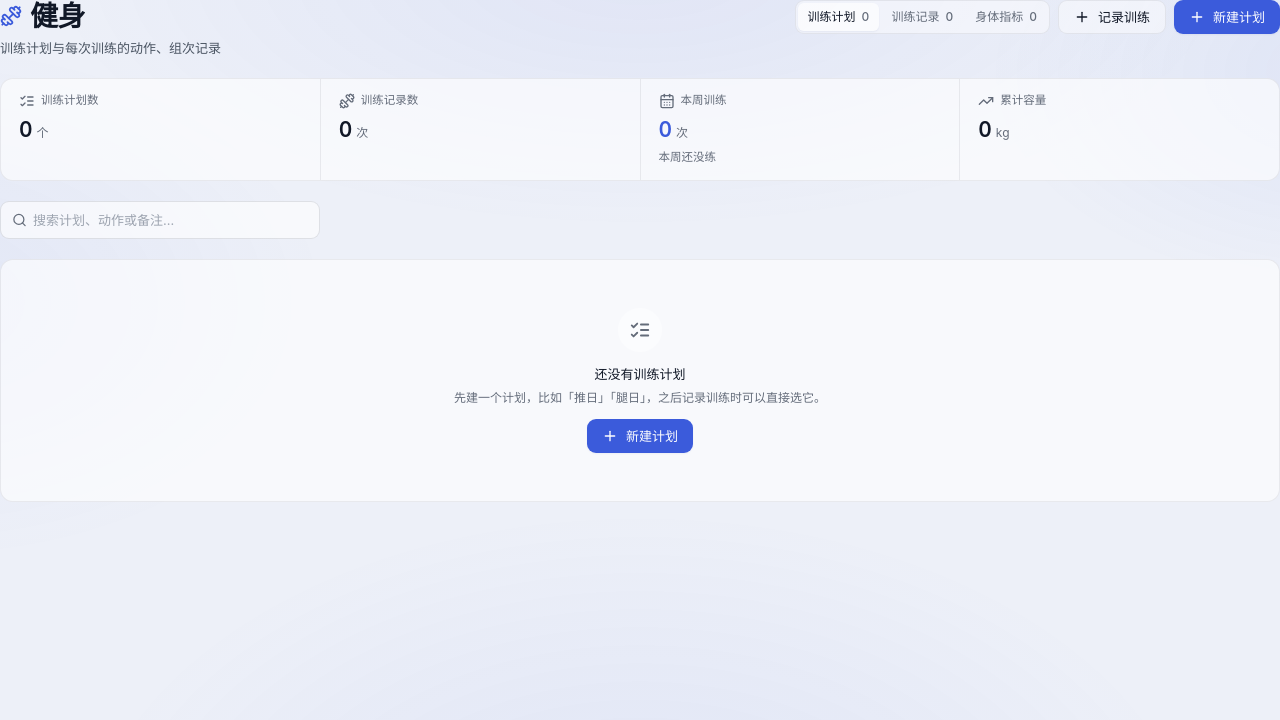
Test case: FitnessPage › 计划视图空态引导新建第一个计划
Expected: the text "还没有训练计划" is shown, [594,366,686,382]
Click the button "新建计划" in the row of "健身" at point(1227, 17), box [1174,0,1279,34]
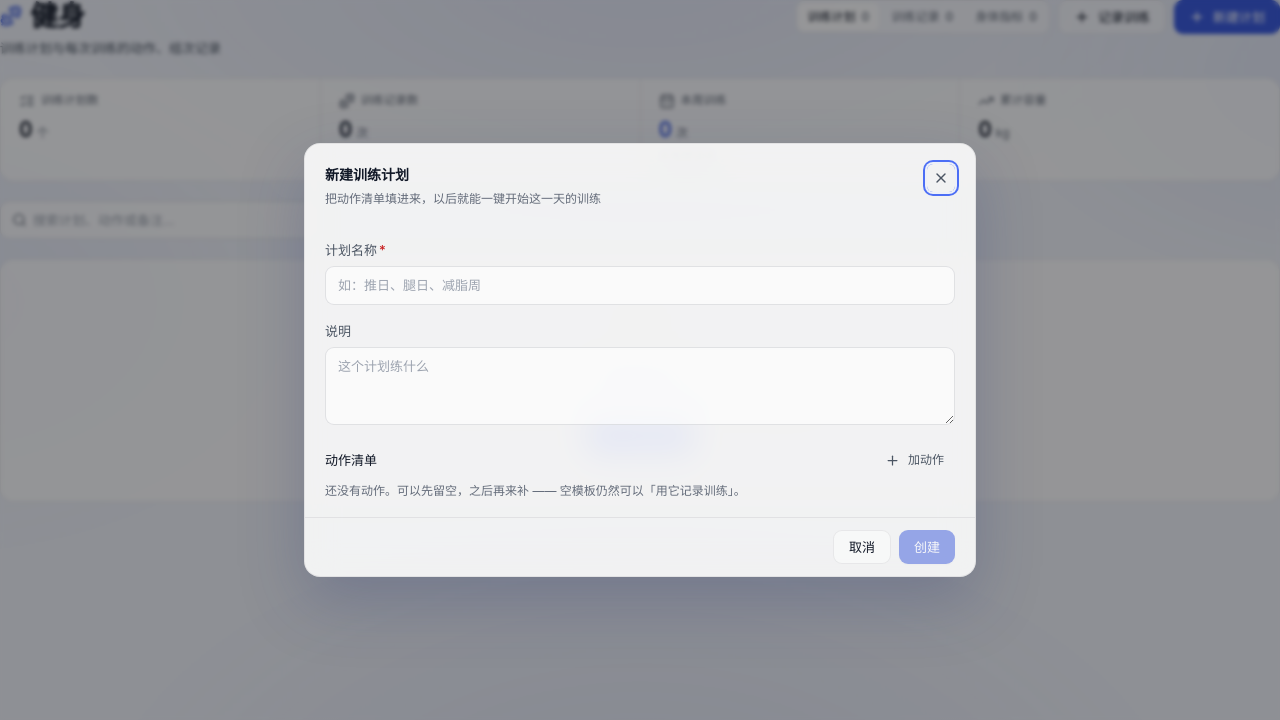
Expected: the button "创建" is disabled, [899,530,955,564]
Type "推日" into the field labelled "计划名称*" at point(640, 286), box [325,266,955,305]
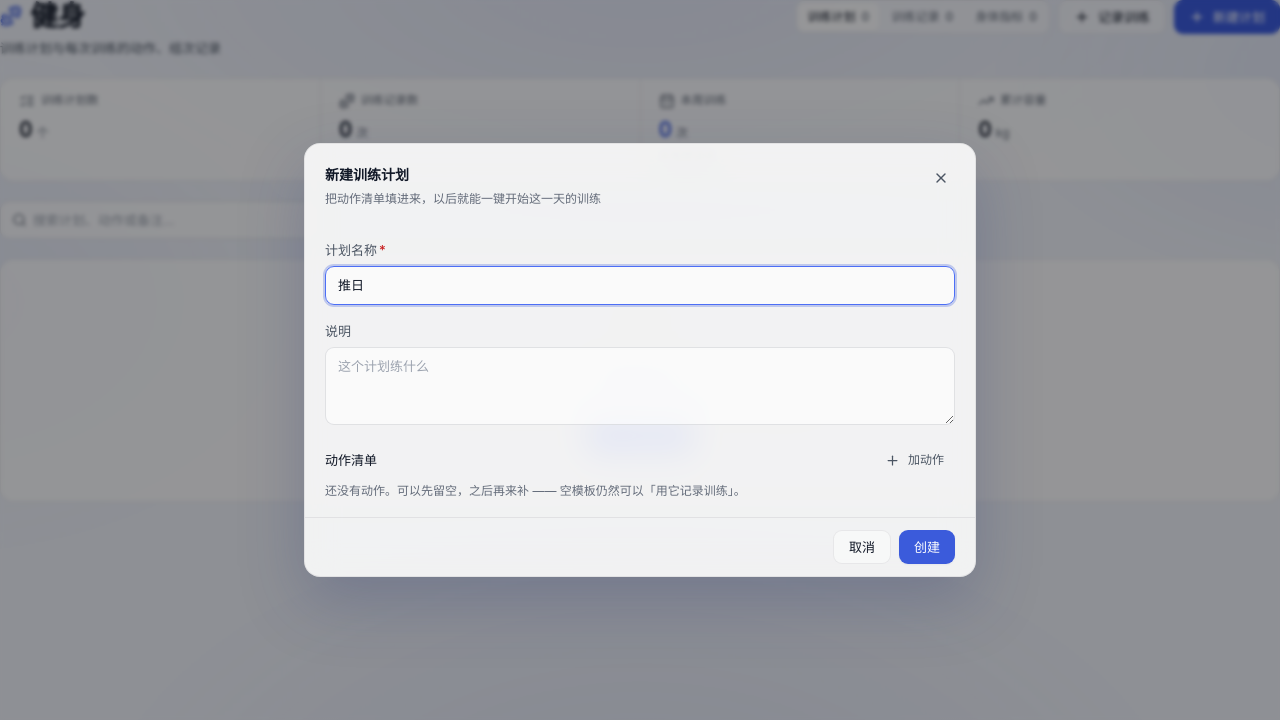
Type "胸肩三头" into the text box labelled "说明" at point(640, 386), box [325,347,955,425]
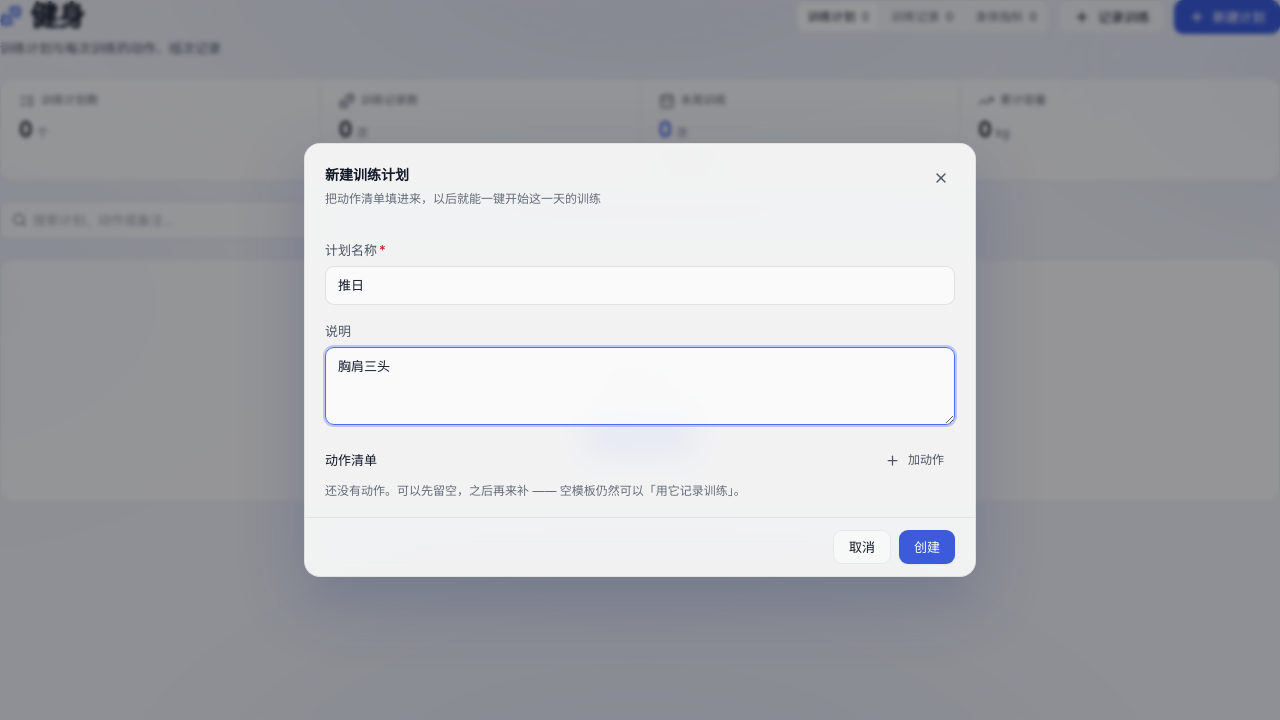
Click the button "创建" at point(927, 547), box [899,530,955,564]
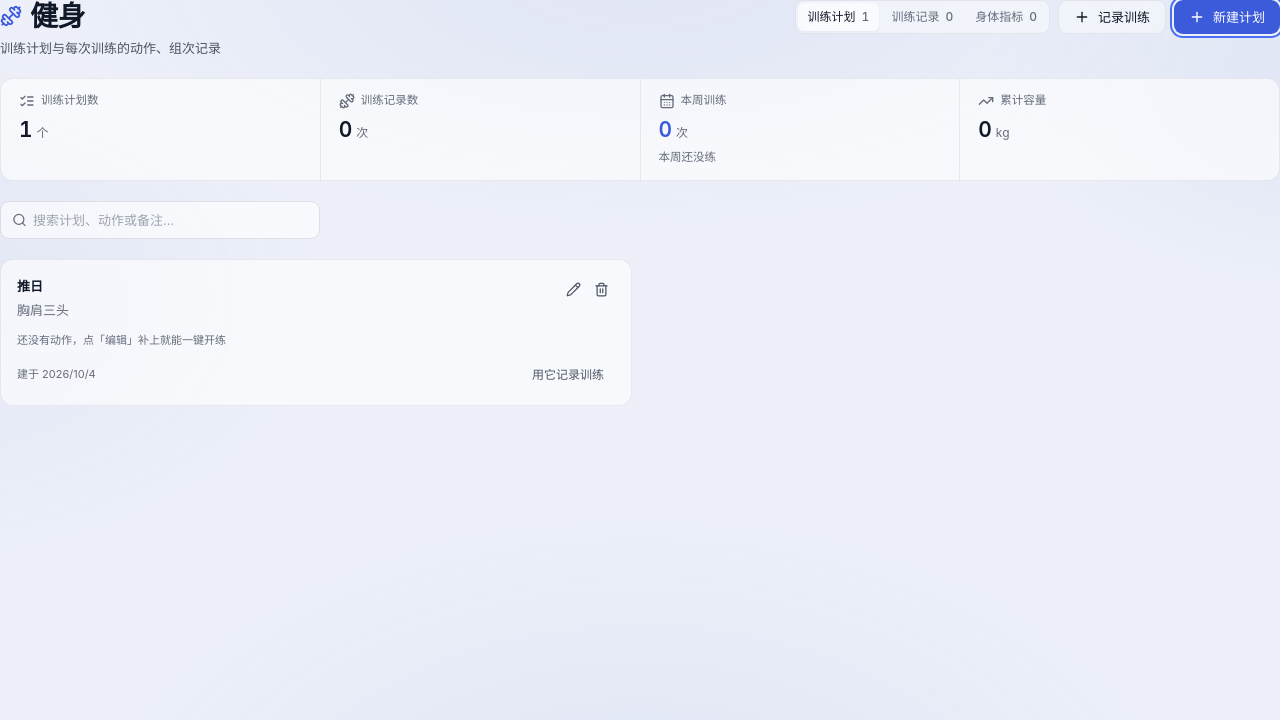
Expected: the text "胸肩三头" is shown, [17,302,69,318]
